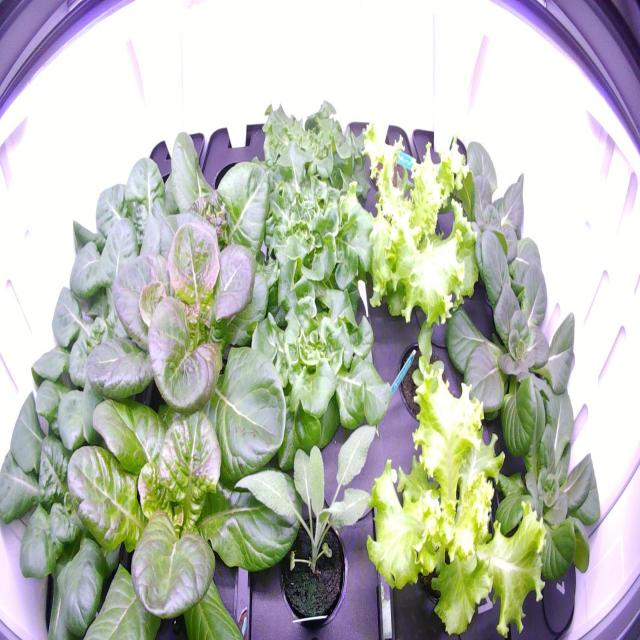young: (56, 324, 310, 628), (79, 193, 294, 422), (0, 368, 164, 637), (436, 225, 586, 459), (27, 225, 194, 435), (470, 374, 610, 604), (132, 127, 280, 343), (56, 144, 199, 344), (436, 132, 546, 292), (391, 310, 457, 430)
